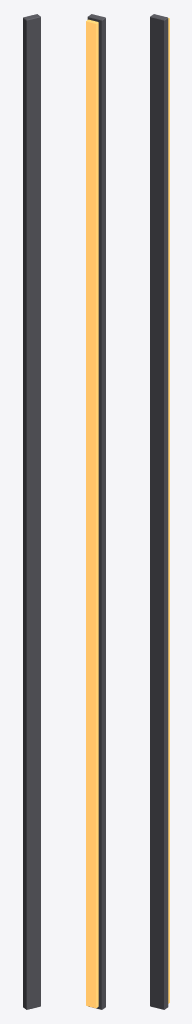
Rendered from emissive_edge_l.glb.
The picture shows the model from 3 angles, left to right: view 1: azimuth 30°, elevation 25°; view 2: azimuth 150°, elevation 25°; view 3: azimuth 330°, elevation 25°; orthographic projection.
Visible parts, largest first — view 1: FlightKit_EmissiveEdge_L; view 2: FlightKit_EmissiveEdge_L; view 3: FlightKit_EmissiveEdge_L.
Boxes of the visible parts, x1=… form: FlightKit_EmissiveEdge_L: x1=23, y1=14, x2=40, y2=1009; FlightKit_EmissiveEdge_L: x1=86, y1=14, x2=105, y2=1009; FlightKit_EmissiveEdge_L: x1=150, y1=14, x2=169, y2=1009.
Size of the model in its own units: 0.22 by 13.93 by 0.16.
